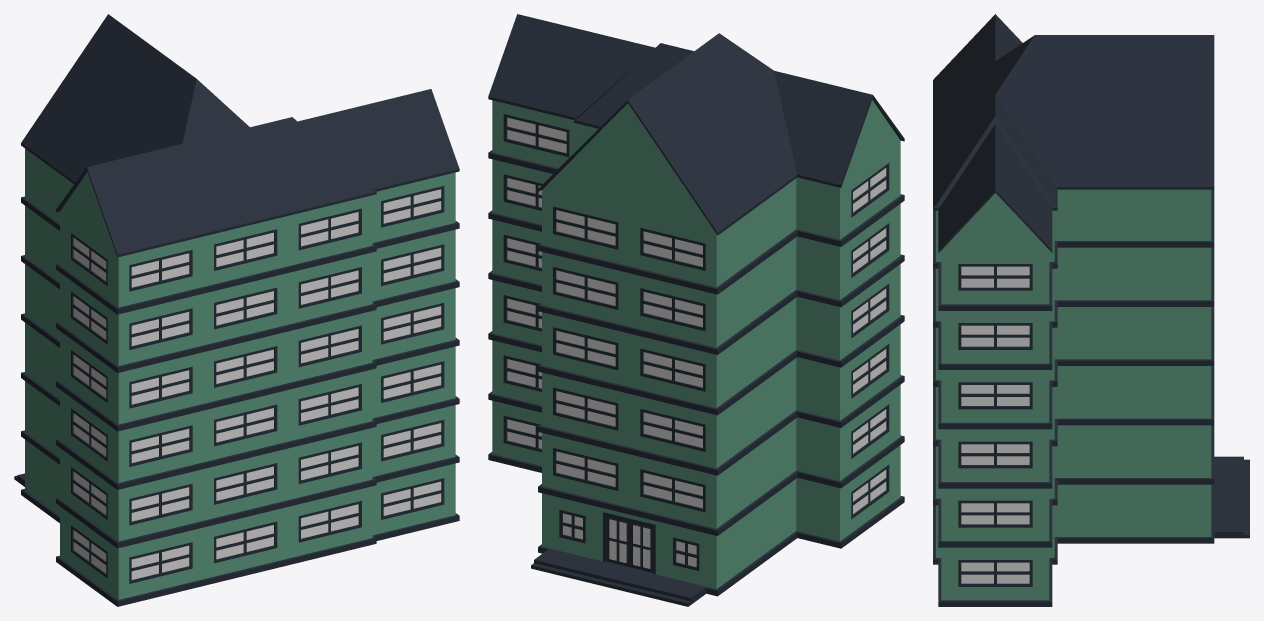
File: medium building 12.fbx
3 renders of one model, left to right at view 1: azimuth 30°, elevation 25°; view 2: azimuth 150°, elevation 25°; view 3: azimuth 270°, elevation 25°, orthographic. The views are drawn at different scales.
Parts seen in each view (by area): view 1: building_001; view 2: building_001; view 3: building_001.
Part boxes in pixels (box(x1,y1,x2,y2)): building_001: box(14, 14, 459, 606); building_001: box(488, 14, 904, 606); building_001: box(933, 14, 1249, 606).
Size of the model in its own units: 1357 by 1730 by 1067.
